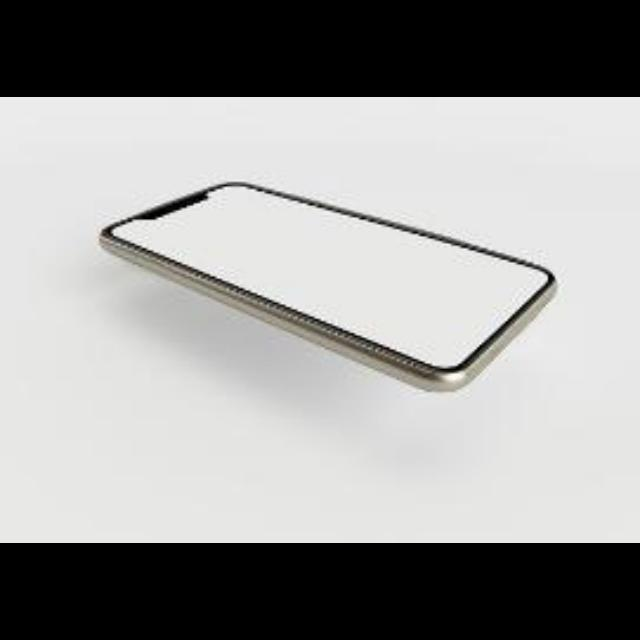phone: (103, 175, 553, 377)
